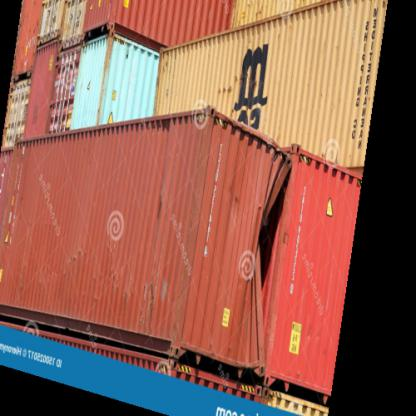Damage: (251, 172, 294, 300)
